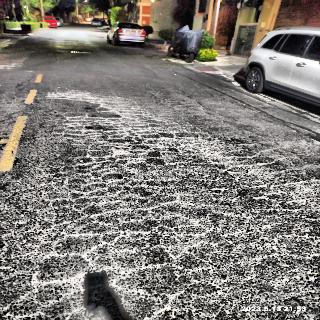alligator-crack: (16, 87, 320, 320)
